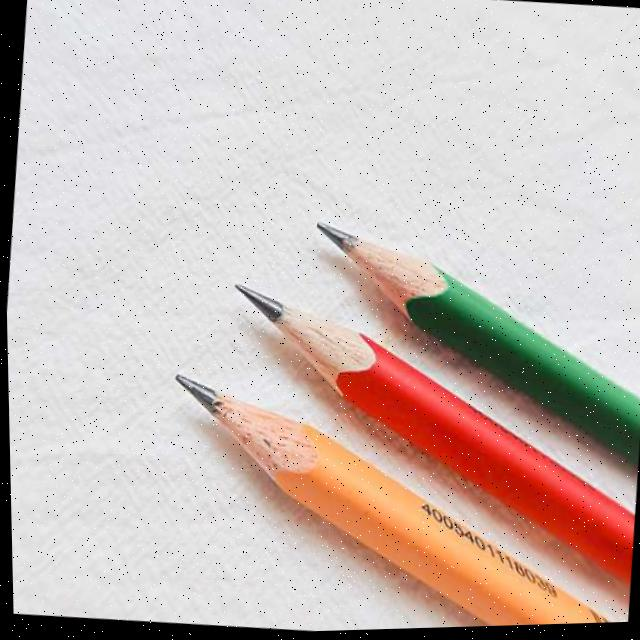pencil: (223, 279, 632, 609), (158, 369, 624, 629), (303, 216, 640, 484)
